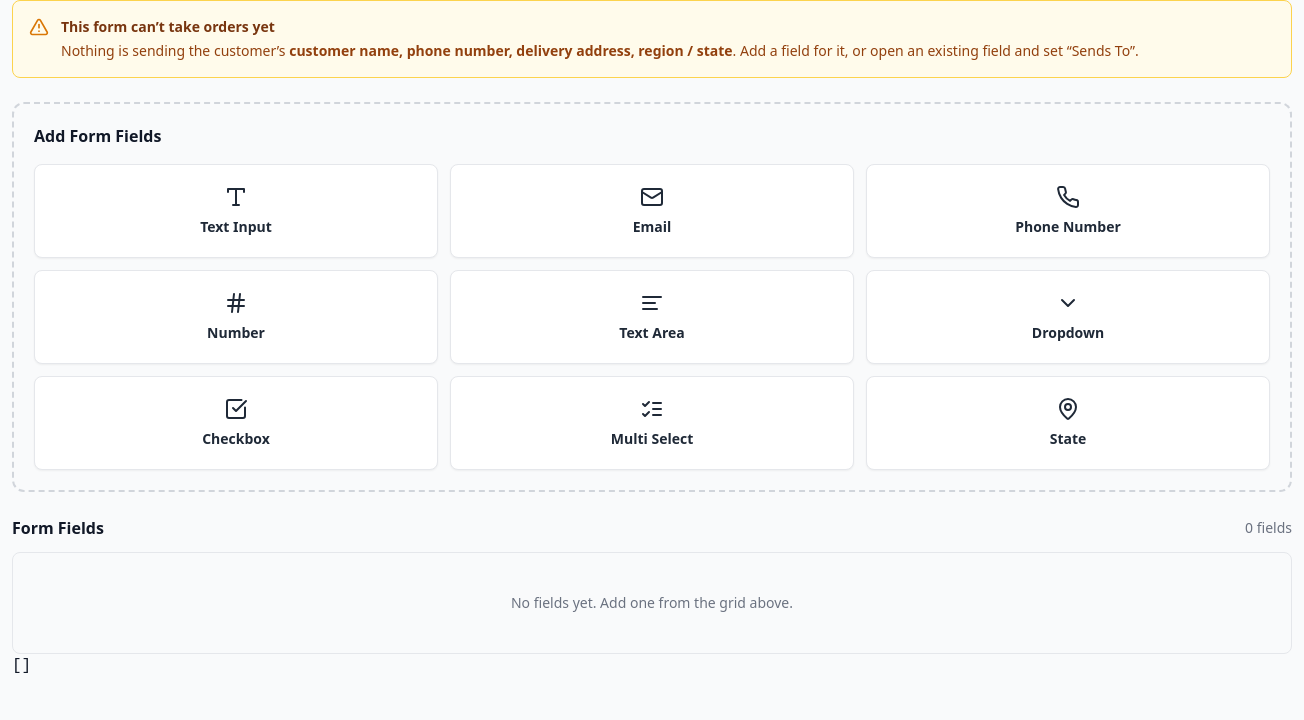
Test: FieldsTab › clicking a type card appends a field of that type
Click the button "Email": (652,211) x1=450 y1=164 x2=854 y2=258
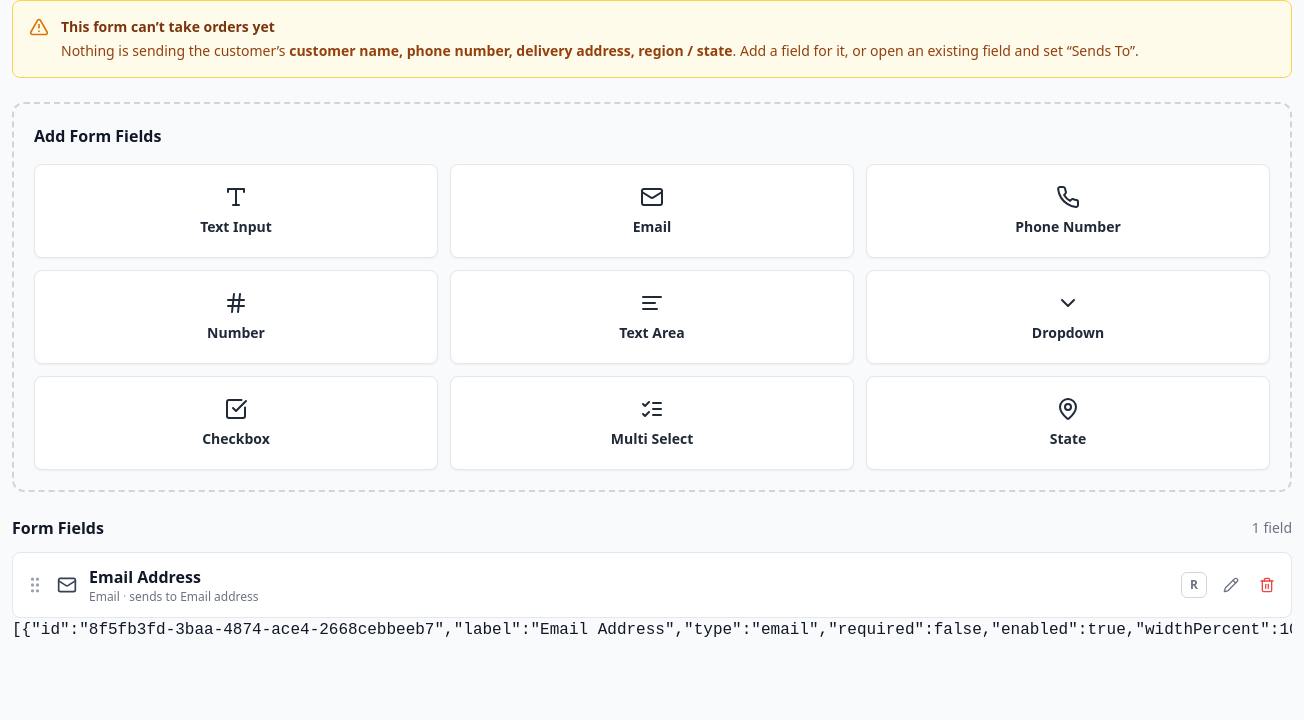
Expected: the text "1 field" is shown, x1=1252 y1=518 x2=1292 y2=538
